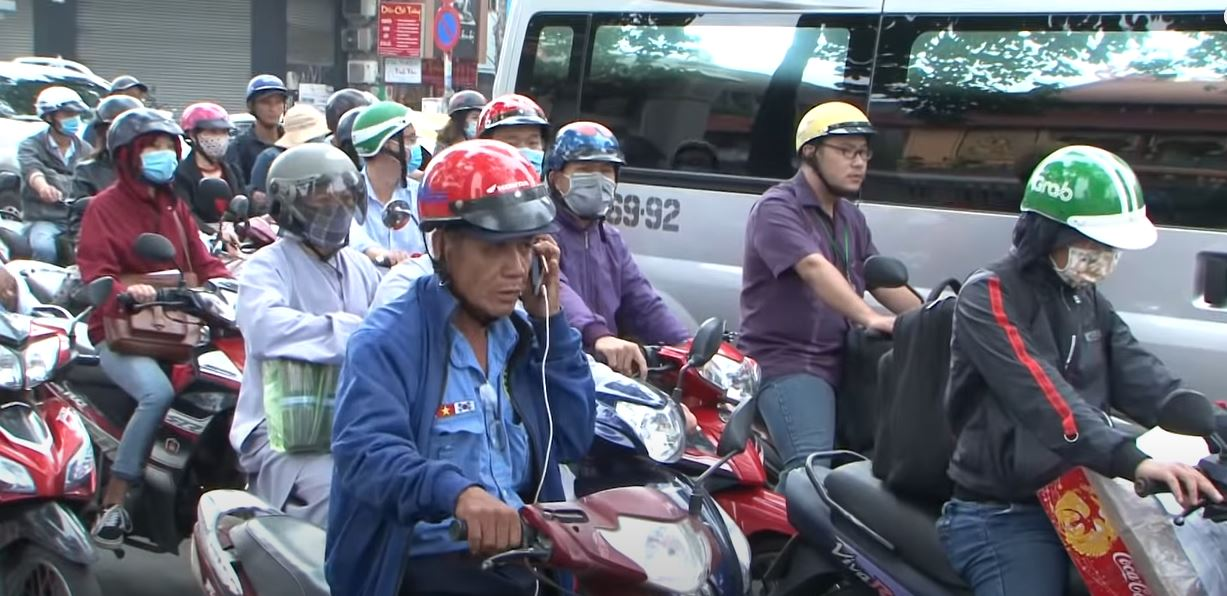su dung dien thoai: (415, 143, 562, 336)
